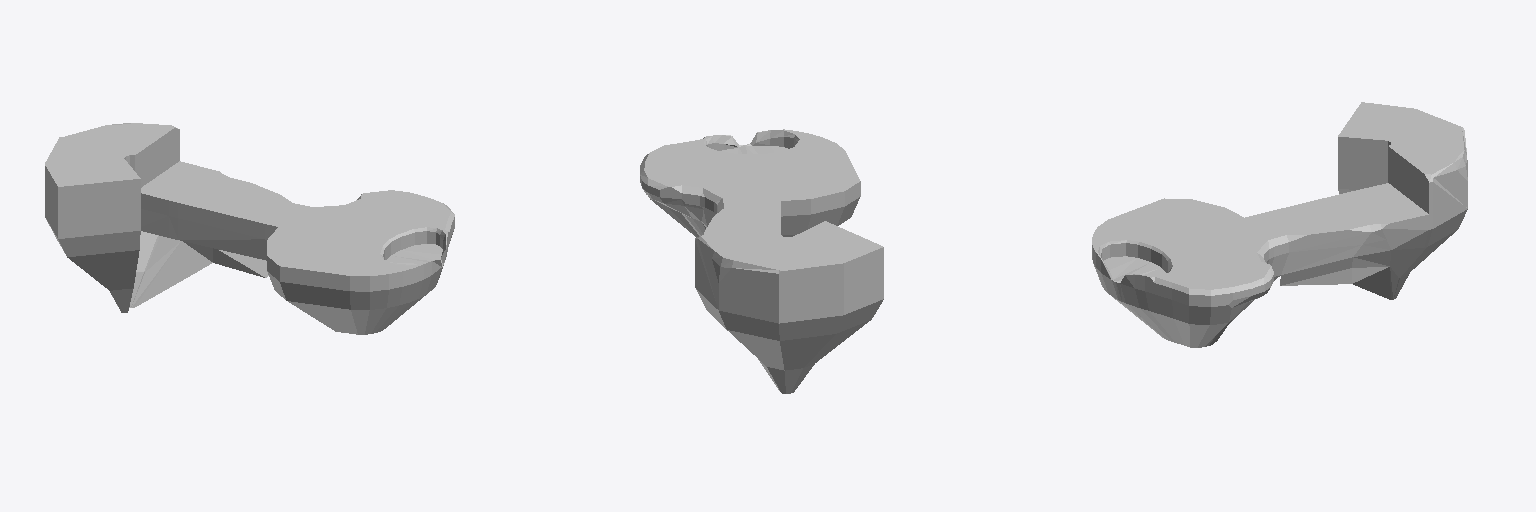
File: Iles.obj
3 views of the same model, side by side, from view 1: azimuth 30°, elevation 25°; view 2: azimuth 150°, elevation 25°; view 3: azimuth 270°, elevation 25° (orthographic).
Visible parts, largest first — view 1: Ile_1_Island_02.001, Ile_2_Cube.001; view 2: Ile_2_Cube.001, Ile_1_Island_02.001; view 3: Ile_1_Island_02.001, Ile_2_Cube.001.
Boxes of the visible parts, box(x1,y1,x2,y2) form: Ile_1_Island_02.001: box(141, 161, 454, 334); Ile_2_Cube.001: box(45, 123, 268, 312); Ile_2_Cube.001: box(695, 221, 883, 393); Ile_1_Island_02.001: box(640, 129, 860, 237); Ile_1_Island_02.001: box(1092, 183, 1428, 347); Ile_2_Cube.001: box(1280, 102, 1467, 299).
Size of the model in its own units: 42.65 by 20.05 by 44.23.